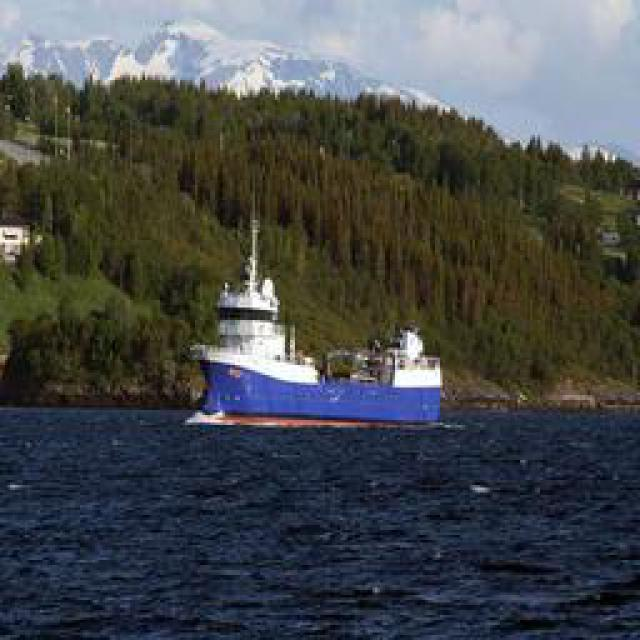Ship: (195, 259, 445, 429)
